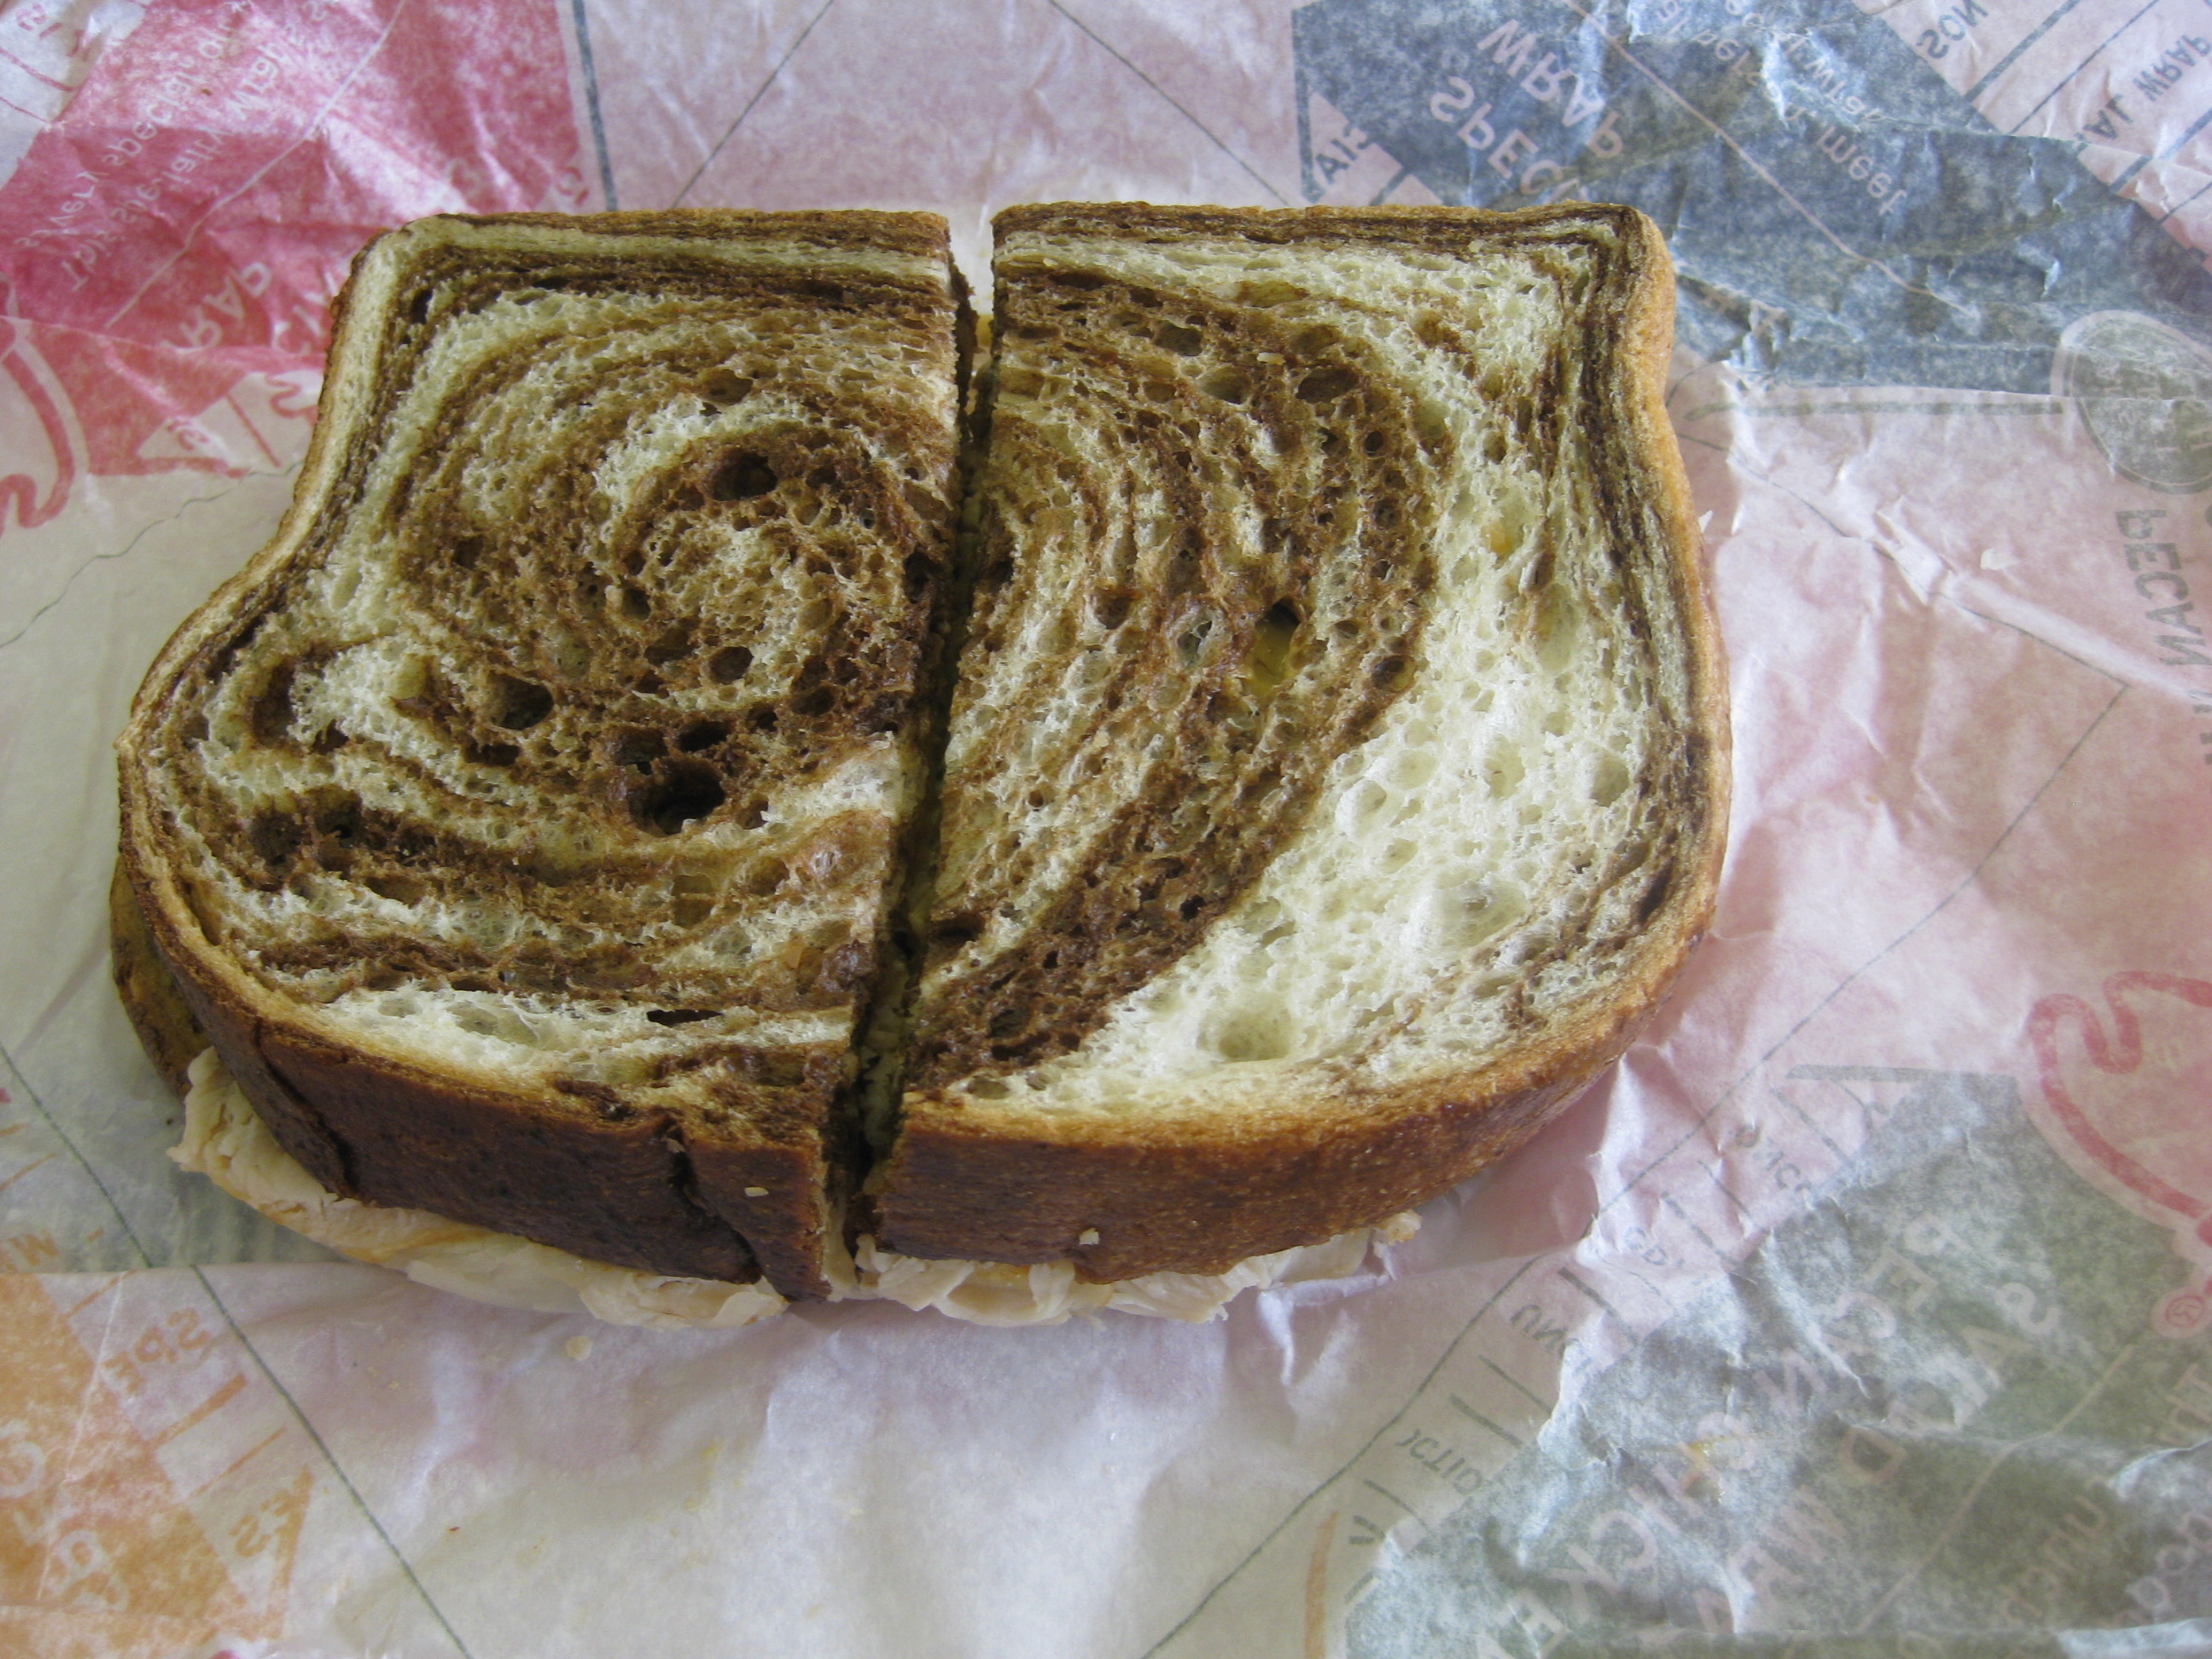sandwich: (96, 170, 1832, 1324)
